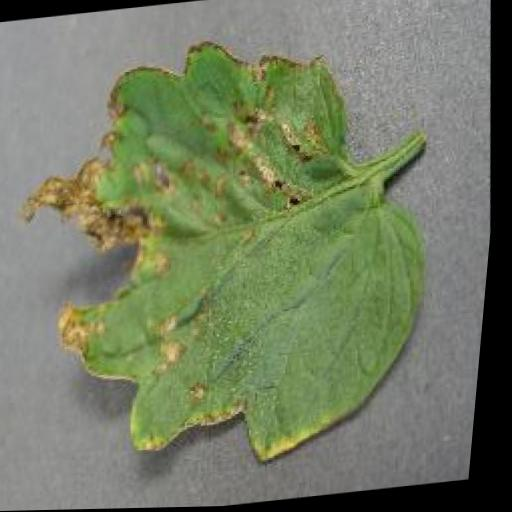Bacterial Spot: (0, 14, 468, 488)
